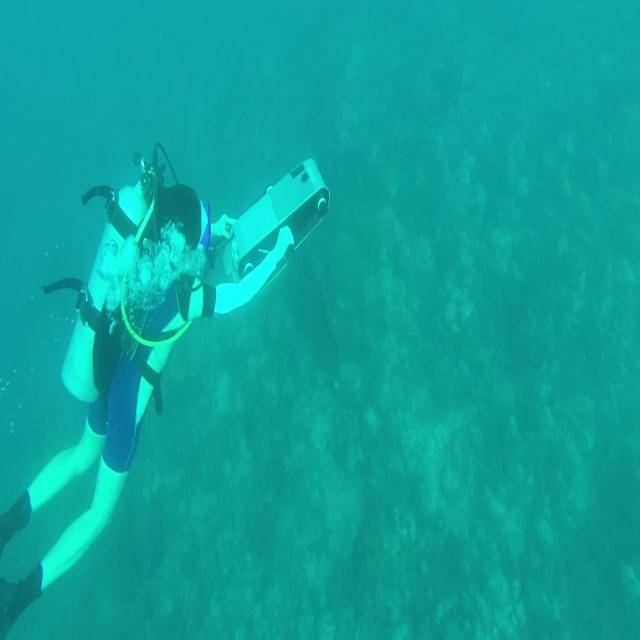human: (1, 146, 328, 634)
